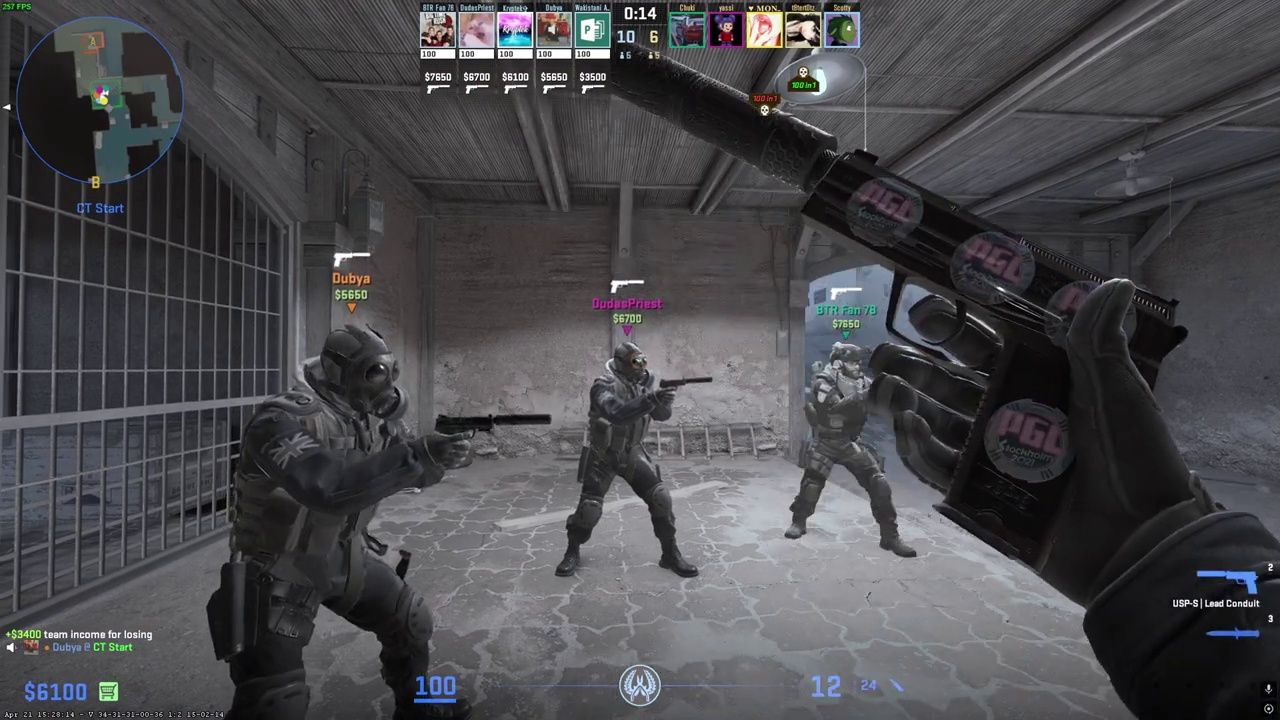CT: (214, 323, 459, 720), (555, 341, 699, 578), (784, 341, 913, 558)
